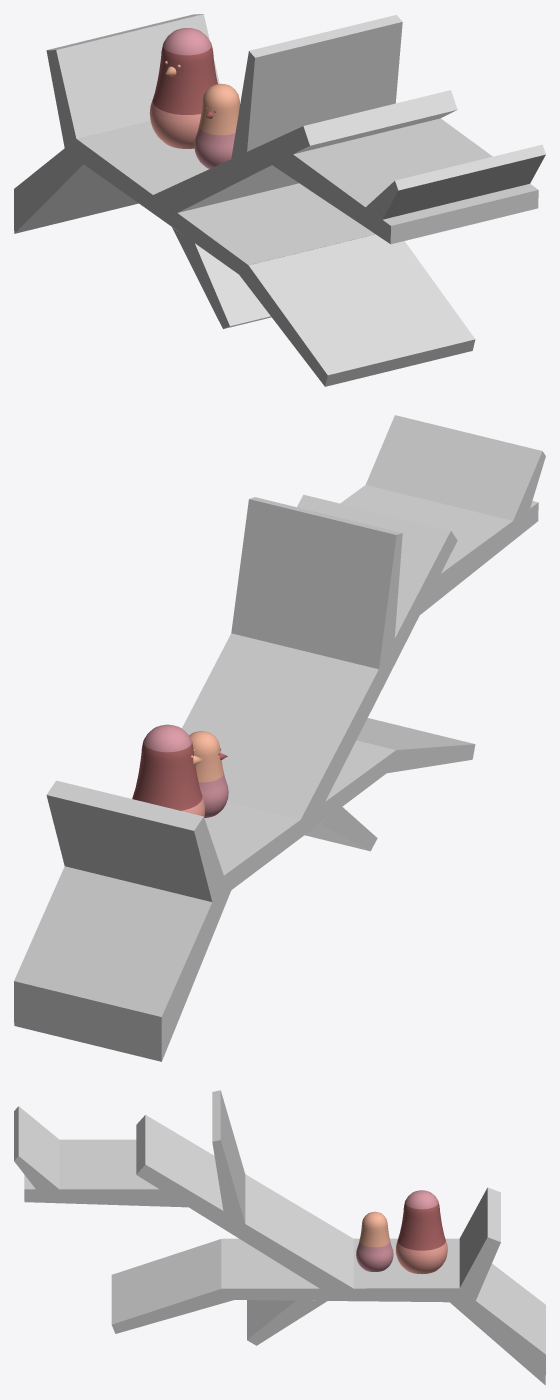
Rendered from Furn3_bookcase_right_color1_joined.fbx.
3 views of the same model, one above another, from view 1: azimuth 30°, elevation 25°; view 2: azimuth 150°, elevation 25°; view 3: azimuth 270°, elevation 25° (orthographic). The views are drawn at different scales.
Visible parts, largest first — view 1: Сфера.030; view 2: Сфера.030; view 3: Сфера.030.
Part boxes in pixels (x1=…): Сфера.030: x1=14, y1=14, x2=545, y2=386; Сфера.030: x1=14, y1=415, x2=545, y2=1061; Сфера.030: x1=14, y1=1090, x2=545, y2=1385.
Size of the model in its own units: 77.77 by 179 by 351.
